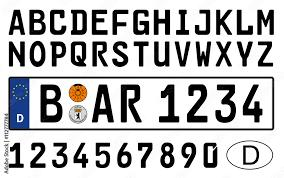1: (156, 84, 182, 124), (8, 142, 25, 169)
2: (186, 84, 211, 123), (27, 141, 47, 168)
3: (212, 83, 239, 125), (50, 141, 70, 168)
4: (241, 83, 266, 126), (70, 142, 89, 168)
5: (92, 141, 112, 168)
6: (114, 142, 132, 168)
7: (135, 141, 155, 168)
8: (158, 141, 176, 168)
9: (180, 141, 197, 168)
A: (92, 82, 116, 126), (8, 9, 27, 36)
B: (36, 83, 65, 126), (27, 9, 48, 36)
C: (48, 10, 67, 35)
D: (68, 9, 88, 36), (202, 141, 219, 169)
E: (91, 9, 111, 36)
F: (111, 9, 131, 37)
G: (132, 9, 150, 37)
H: (152, 9, 172, 37)
I: (175, 8, 191, 37)
J: (194, 9, 211, 36)
K: (214, 9, 234, 36)
L: (235, 9, 256, 37)
M: (257, 8, 278, 37)
N: (7, 40, 28, 67)
O: (28, 40, 48, 67)
P: (49, 40, 67, 67)
Q: (70, 40, 89, 67)
R: (118, 84, 143, 124), (92, 40, 110, 67)
S: (111, 40, 130, 67)
T: (134, 40, 151, 68)
U: (151, 40, 171, 67)
V: (173, 40, 191, 67)
W: (194, 40, 214, 68)
X: (215, 39, 234, 68)
Y: (235, 41, 254, 68)
Z: (256, 39, 276, 68)
